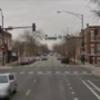crosswalks: (14, 71, 92, 74), (19, 66, 70, 66)
